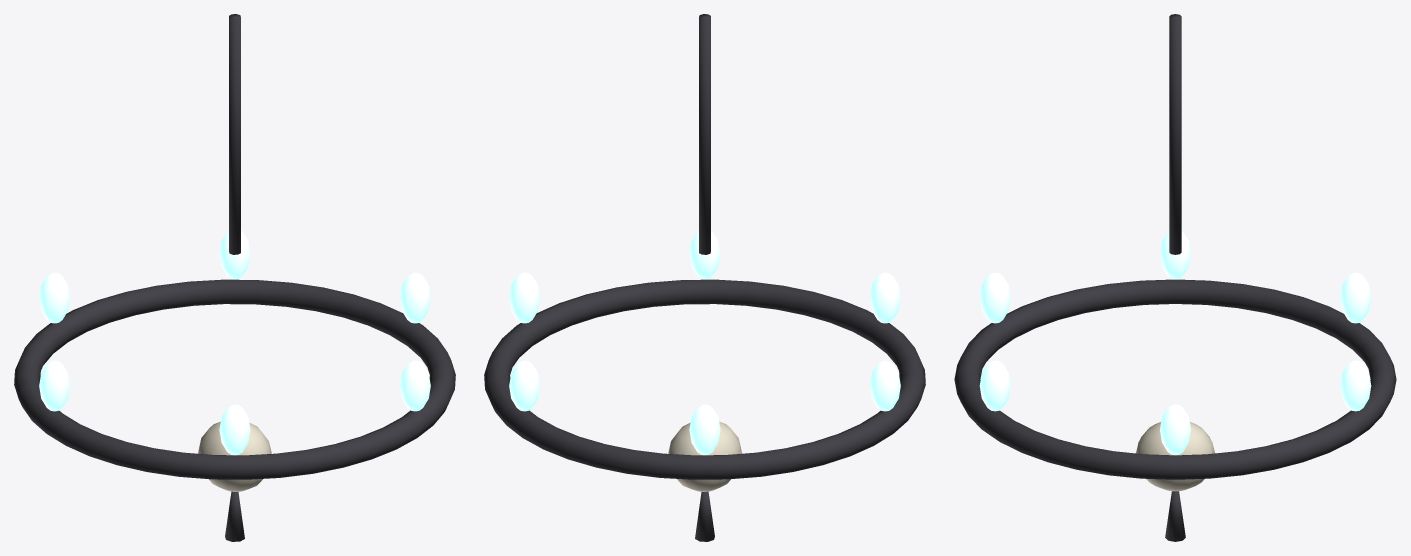
File: chandelier_soul_wheel.glb
3 renders of one model, left to right at view 1: azimuth 30°, elevation 25°; view 2: azimuth 150°, elevation 25°; view 3: azimuth 270°, elevation 25°, orthographic.
Visible parts, largest first — view 1: GD_chandelier_soul_wheel__m0, GD_chandelier_soul_wheel__m1, GD_chandelier_soul_wheel__m2; view 2: GD_chandelier_soul_wheel__m0, GD_chandelier_soul_wheel__m1, GD_chandelier_soul_wheel__m2; view 3: GD_chandelier_soul_wheel__m0, GD_chandelier_soul_wheel__m1, GD_chandelier_soul_wheel__m2.
Boxes of the visible parts, <box> form: GD_chandelier_soul_wheel__m0: <box>14,14,455,541</box>; GD_chandelier_soul_wheel__m1: <box>39,231,430,455</box>; GD_chandelier_soul_wheel__m2: <box>198,421,271,491</box>; GD_chandelier_soul_wheel__m0: <box>484,14,925,541</box>; GD_chandelier_soul_wheel__m1: <box>509,231,900,455</box>; GD_chandelier_soul_wheel__m2: <box>668,421,741,491</box>; GD_chandelier_soul_wheel__m0: <box>954,14,1396,541</box>; GD_chandelier_soul_wheel__m1: <box>979,231,1371,455</box>; GD_chandelier_soul_wheel__m2: <box>1136,422,1214,491</box>.
Size of the model in its own units: 0.852 by 1.1 by 0.85.
